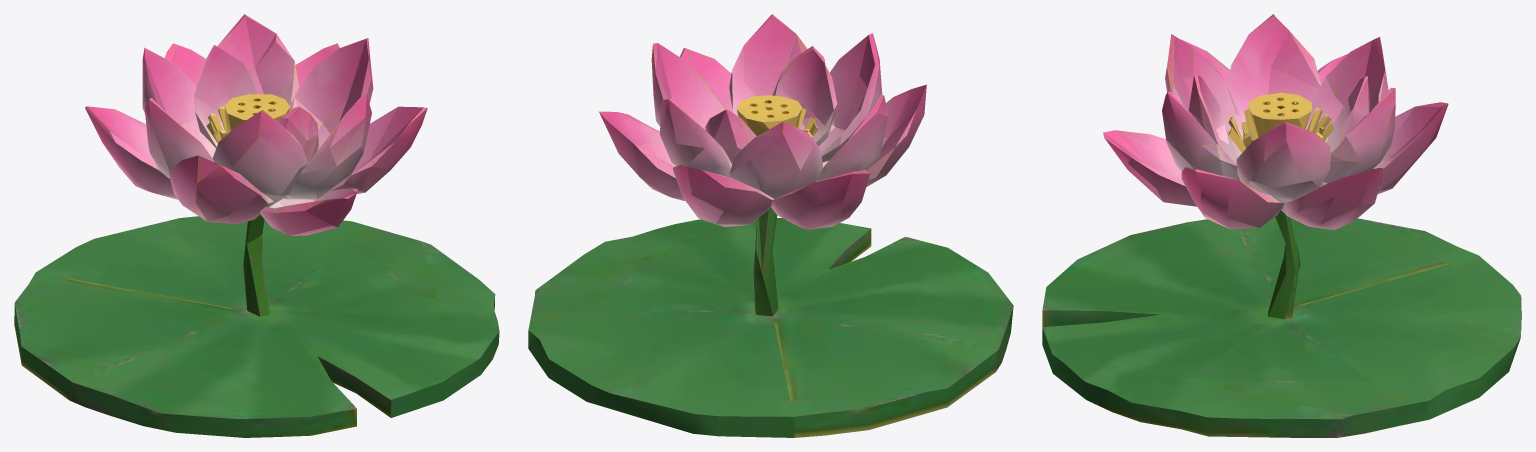
The model's file is nature-lily.glb.
3 views of the same model, side by side, from view 1: azimuth 30°, elevation 25°; view 2: azimuth 150°, elevation 25°; view 3: azimuth 270°, elevation 25° (orthographic).
Visible parts, largest first — view 1: nature-lily-fit; view 2: nature-lily-fit; view 3: nature-lily-fit.
Part boxes in pixels (box(x1,y1,x2,y2)): nature-lily-fit: box(14, 14, 499, 437); nature-lily-fit: box(528, 14, 1013, 437); nature-lily-fit: box(1042, 14, 1521, 437).
Size of the model in its own units: 0.38 by 0.2441 by 0.3796.
1 material, 1 textured.
